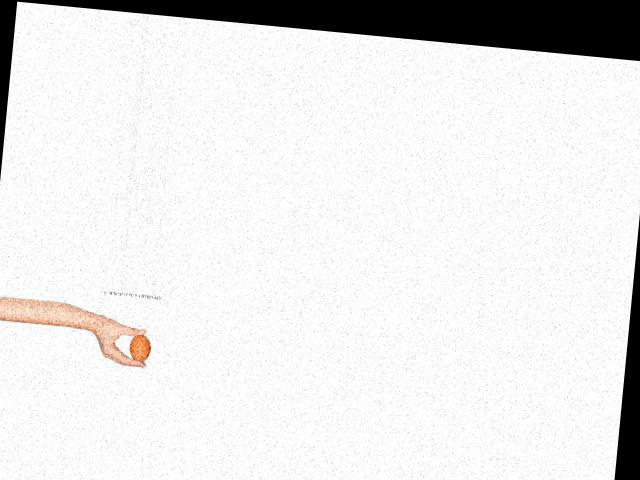egg: (129, 333, 152, 363)
